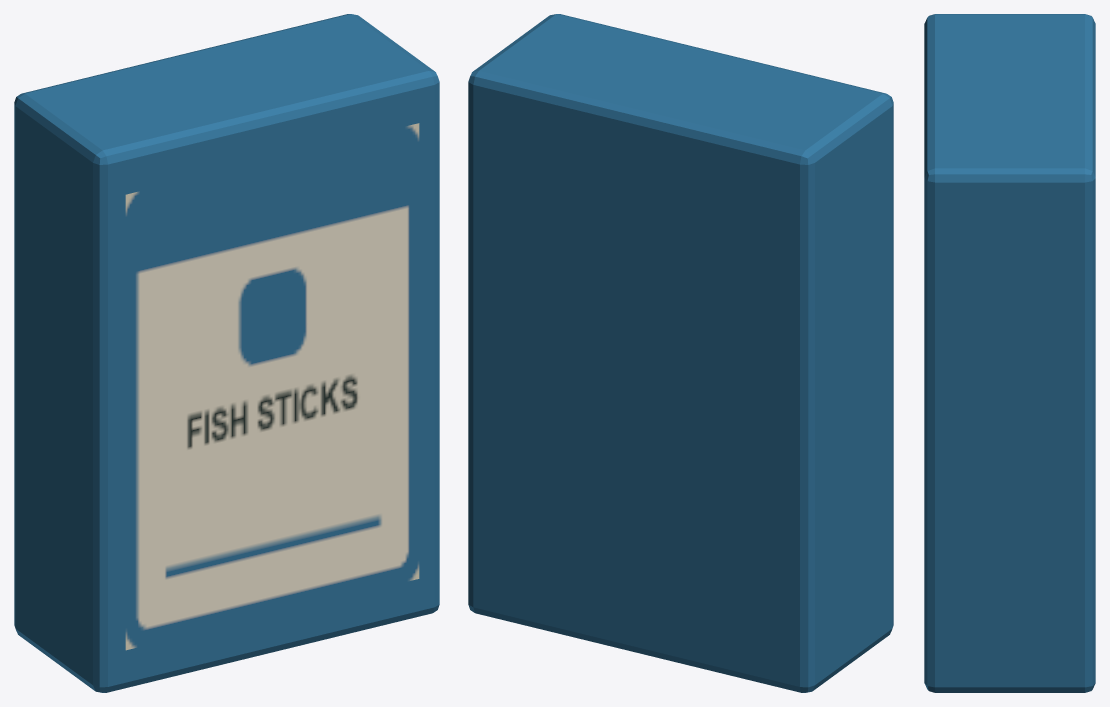
Rendered from fish_sticks.fbx.
The picture shows the model from 3 angles, left to right: view 1: azimuth 30°, elevation 25°; view 2: azimuth 150°, elevation 25°; view 3: azimuth 270°, elevation 25°; orthographic projection. The views are drawn at different scales.
Visible parts, largest first — view 1: fish_sticks; view 2: fish_sticks; view 3: fish_sticks.
Part boxes in pixels (box(x1,y1,x2,y2)): fish_sticks: box(14, 14, 439, 692); fish_sticks: box(468, 14, 893, 692); fish_sticks: box(924, 14, 1095, 692).
Bounding box in the file's own units: 18 × 27 × 8.1.
